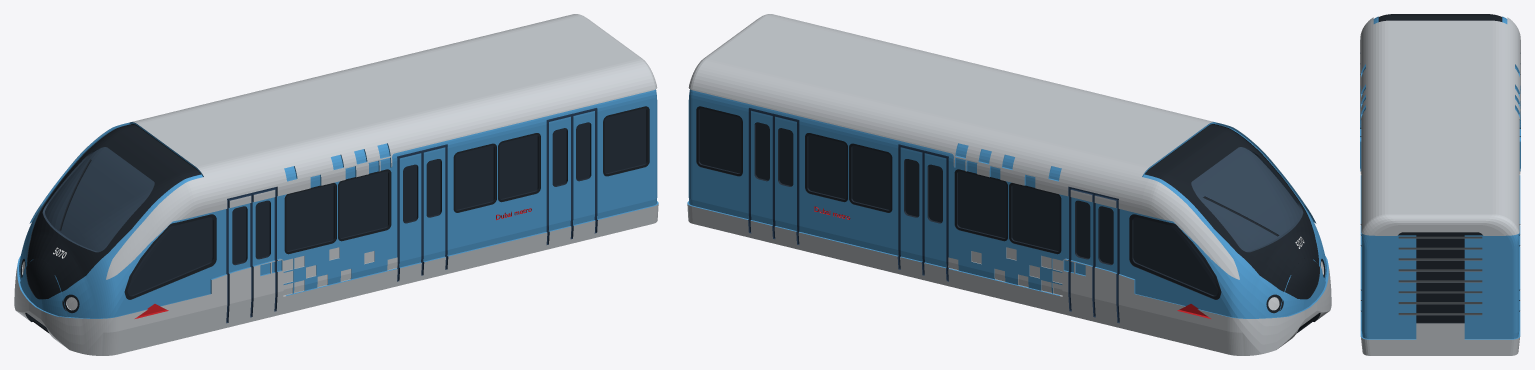
The model's file is dubaimetro.glb.
The picture shows the model from 3 angles, left to right: view 1: azimuth 30°, elevation 25°; view 2: azimuth 150°, elevation 25°; view 3: azimuth 270°, elevation 25°; orthographic projection. The views are drawn at different scales.
Parts seen in each view (by area): view 1: rta_dubaimetro; view 2: rta_dubaimetro; view 3: rta_dubaimetro.
Boxes of the visible parts, x1,y1,x2,y2 form: rta_dubaimetro: [14, 14, 658, 355]; rta_dubaimetro: [687, 14, 1331, 355]; rta_dubaimetro: [1360, 14, 1520, 355].
Size of the model in its own units: 150 by 38 by 40.
